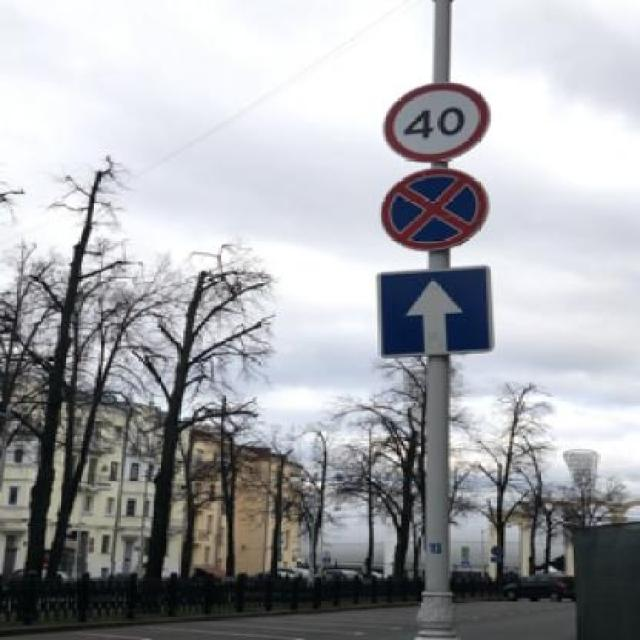forb_speed_over_40: (381, 85, 488, 162)
